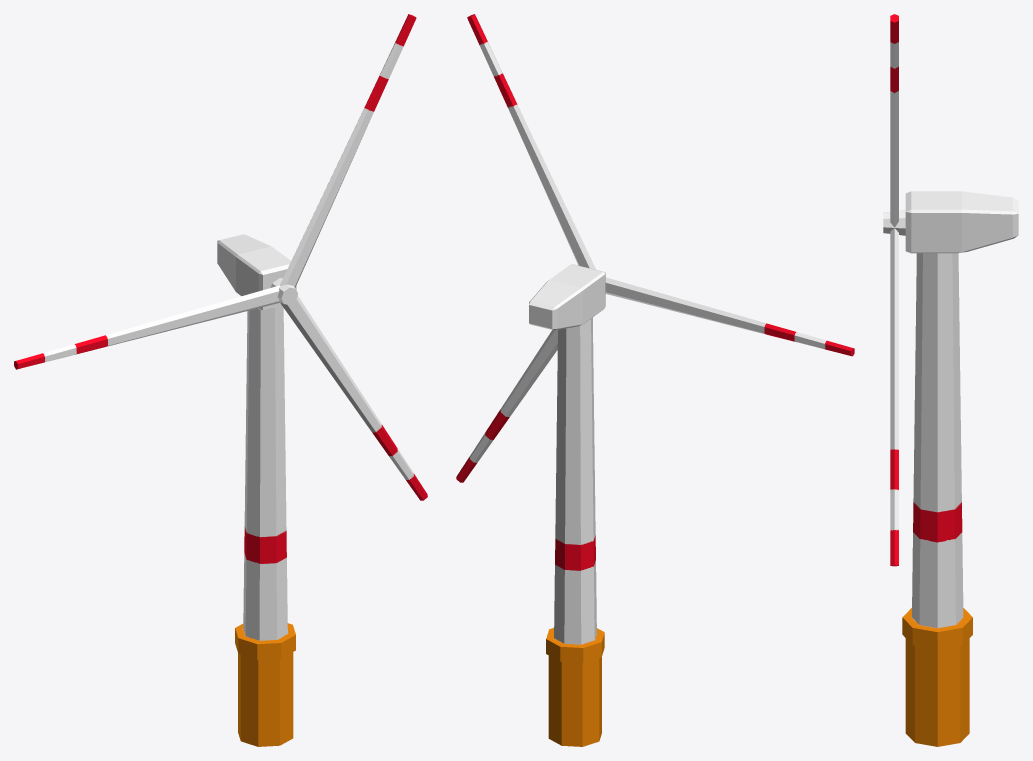
The model's file is Single Turbine_noGround.fbx.
3 views of the same model, side by side, from view 1: azimuth 30°, elevation 25°; view 2: azimuth 150°, elevation 25°; view 3: azimuth 270°, elevation 25° (orthographic). The views are drawn at different scales.
Visible parts, largest first — view 1: Cube.017; view 2: Cube.017; view 3: Cube.017.
Part boxes in pixels (bbox=[...]): Cube.017: bbox=[14, 14, 427, 746]; Cube.017: bbox=[456, 14, 854, 746]; Cube.017: bbox=[883, 14, 1018, 746].
Bounding box in the file's own units: 114 × 186 × 28.93.
